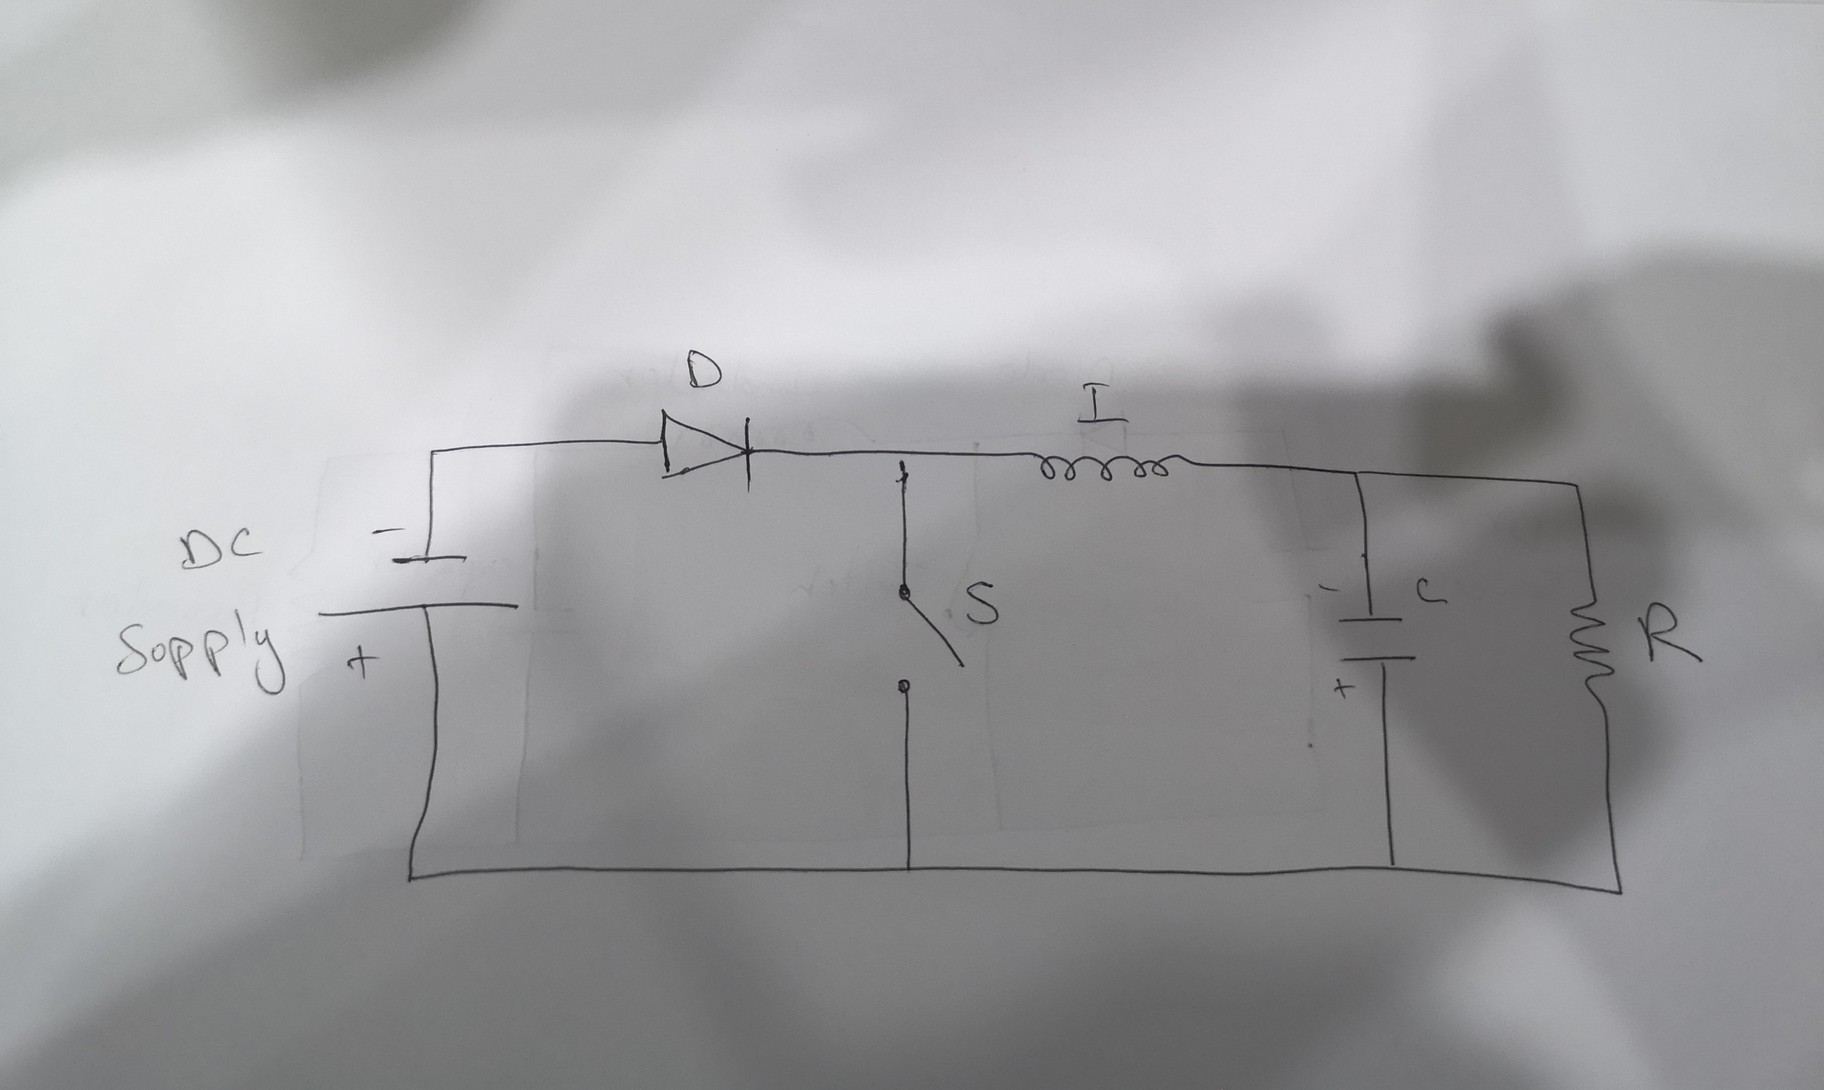capacitor.polarized: (1313, 577, 1423, 701)
diode: (650, 404, 760, 502)
inductor: (1027, 440, 1201, 487)
junction: (887, 446, 917, 489), (422, 441, 446, 467), (1565, 475, 1588, 496), (400, 868, 422, 888), (1383, 856, 1402, 878), (1345, 462, 1365, 483), (899, 858, 918, 877), (1611, 882, 1629, 901)
resistor: (1566, 587, 1616, 705)
switch: (890, 576, 970, 698)
text: (108, 598, 296, 699), (1635, 599, 1709, 670), (175, 522, 269, 571), (1072, 378, 1133, 430), (959, 576, 1005, 631), (682, 343, 724, 391), (1410, 574, 1452, 612)
voltage.dc: (311, 516, 525, 685)
